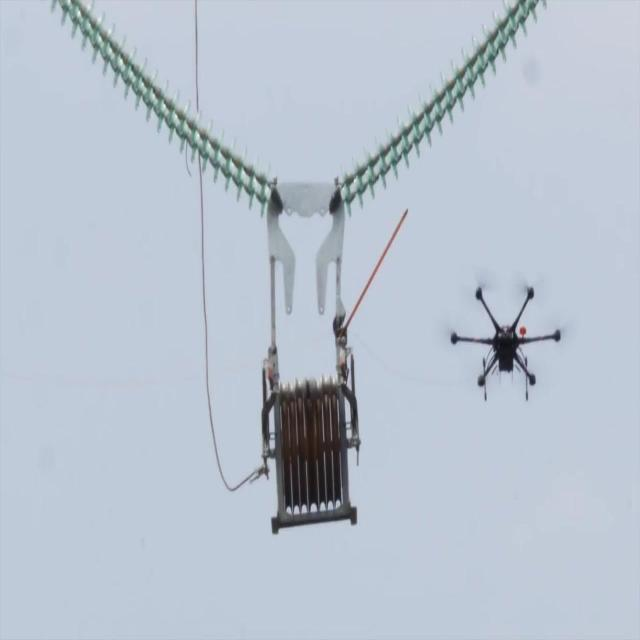drone: (448, 279, 563, 406)
